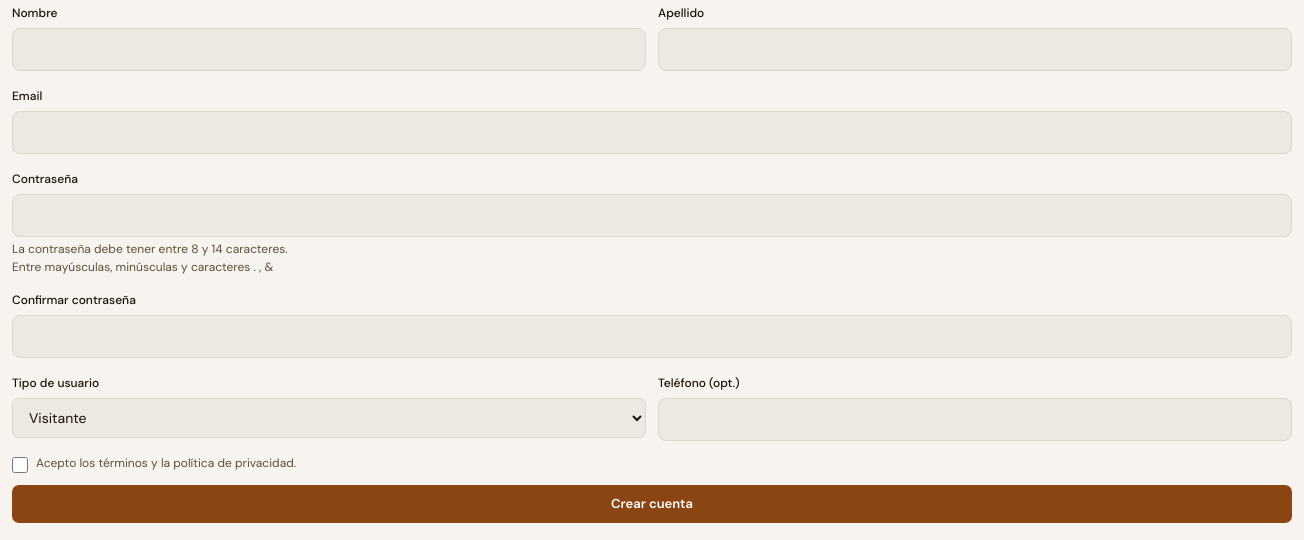
Test: RegisterForm › limits password fields to 14 characters
Type "123456789012345" into the password field labelled "Contraseña".
click(652, 216); type("123456789012345")  # box top-left (12, 194), bottom-right (1292, 237)
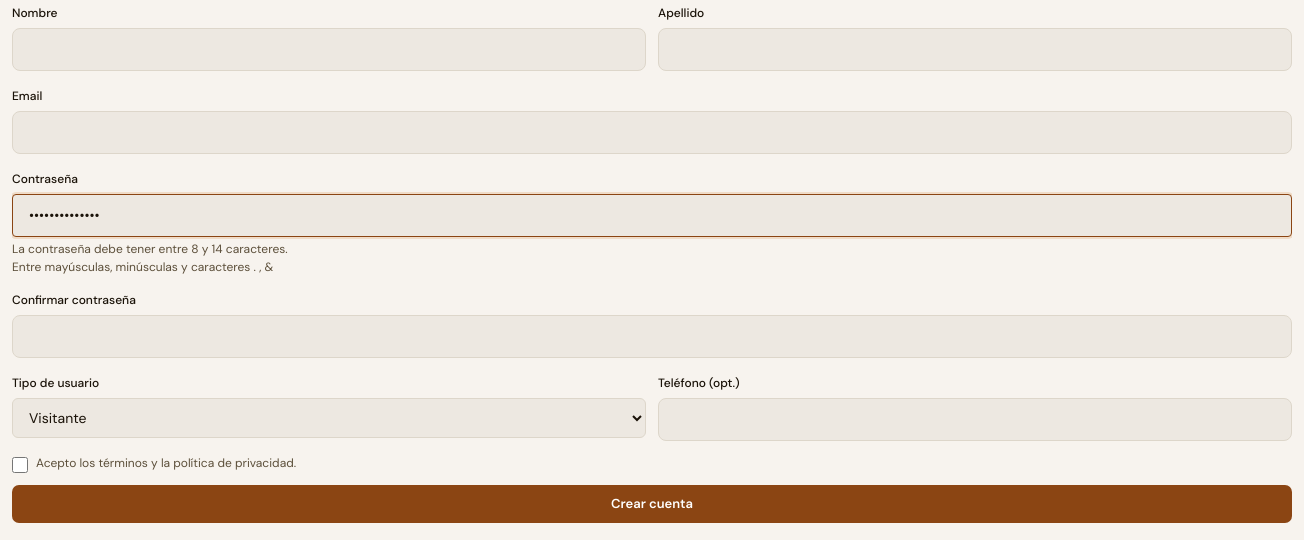
Type "abcdefghijklmno" into the password field labelled "Confirmar contraseña".
click(652, 336); type("abcdefghijklmno")  # box top-left (12, 315), bottom-right (1292, 358)
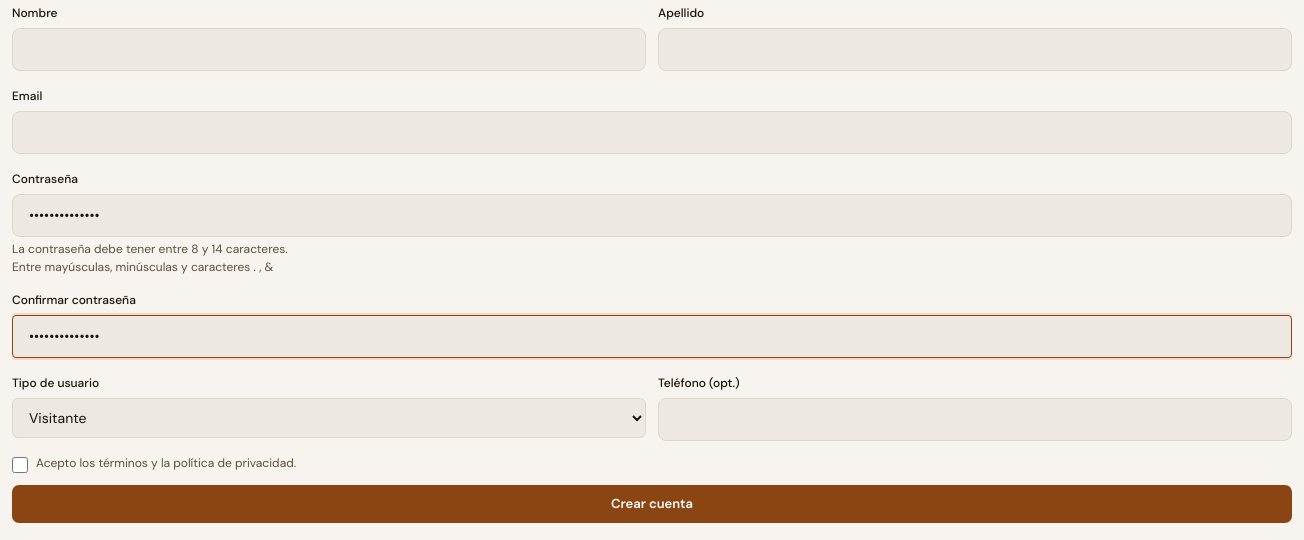
Now the password field labelled "Contraseña" holds "12345678901234", box top-left (12, 194), bottom-right (1292, 237)
Now the password field labelled "Confirmar contraseña" holds "abcdefghijklmn", box top-left (12, 315), bottom-right (1292, 358)
